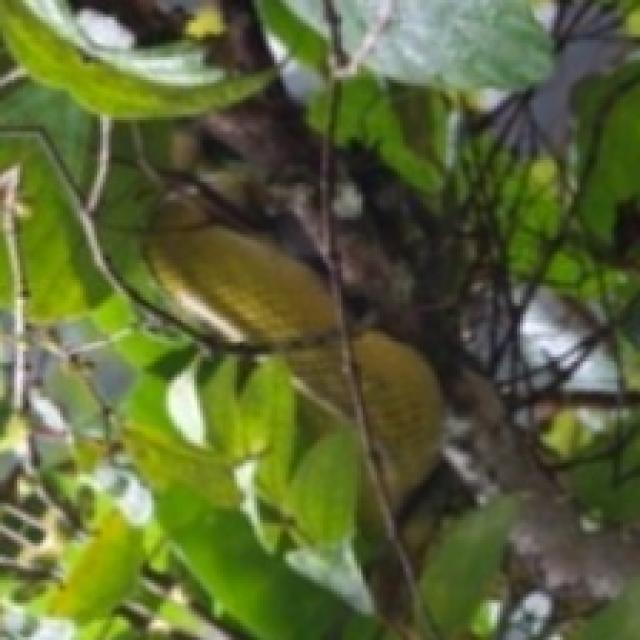red-tailed green ratsnake: (146, 197, 334, 346), (351, 331, 440, 503), (291, 342, 350, 416)
